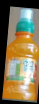orange: (3, 8, 38, 102)
